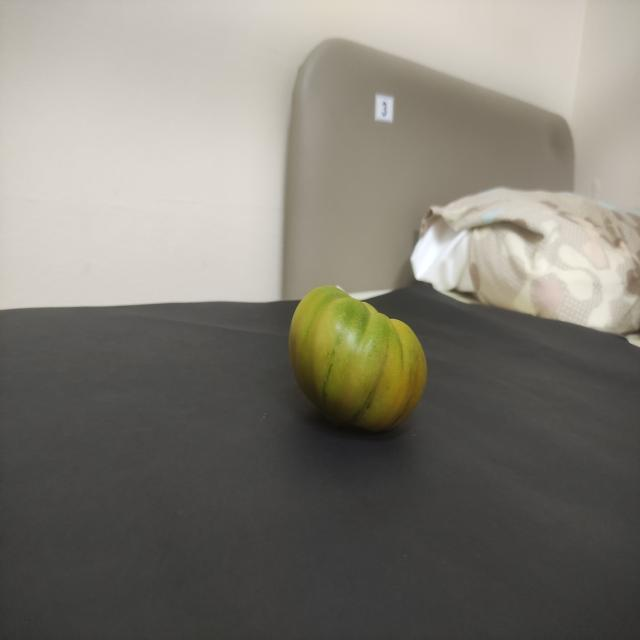yesil: (278, 269, 444, 452)
